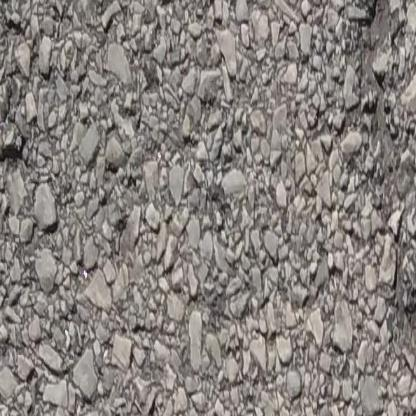Cracks: (347, 0, 416, 416)
